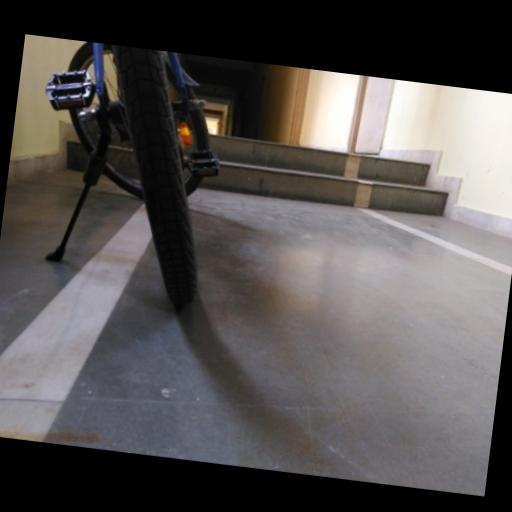stairs: (204, 136, 448, 216)
